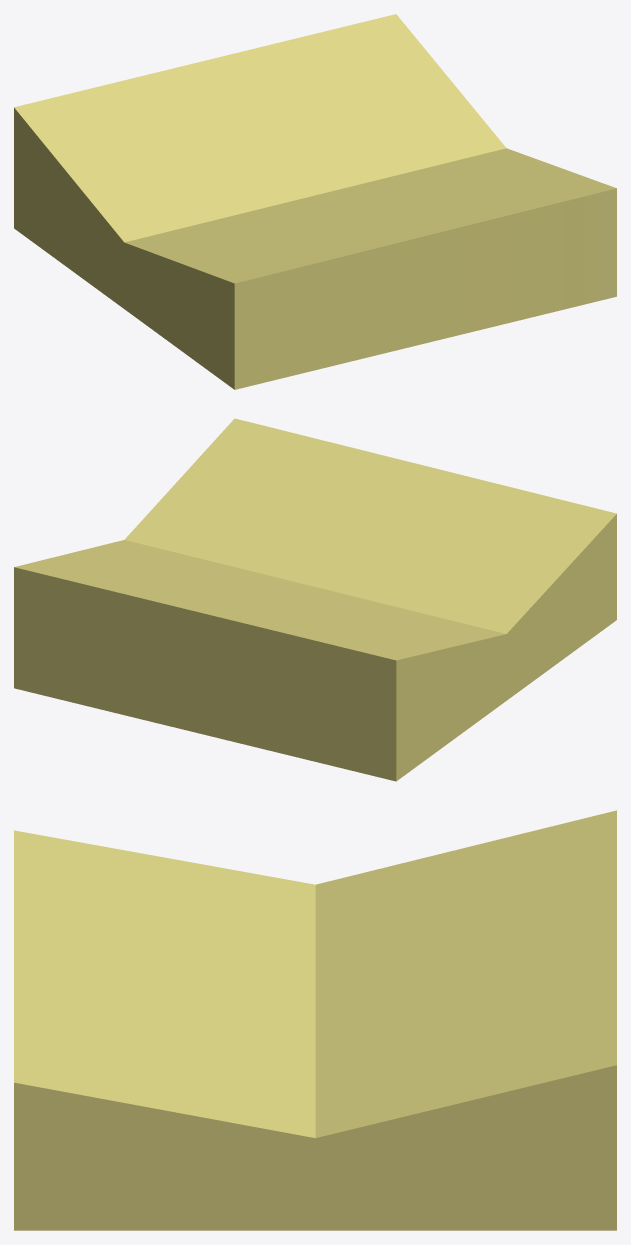
Rendered from Field_1.fbx.
3 renders of one model, top to bottom at view 1: azimuth 30°, elevation 25°; view 2: azimuth 150°, elevation 25°; view 3: azimuth 270°, elevation 25°, orthographic. The views are drawn at different scales.
Visible parts, largest first — view 1: Field_1; view 2: Field_1; view 3: Field_1.
Part boxes in pixels (bbox=[...]): Field_1: bbox=[14, 14, 616, 389]; Field_1: bbox=[14, 418, 616, 781]; Field_1: bbox=[14, 810, 616, 1230].
Size of the model in its own units: 140 by 42.39 by 140.
Materials: 1 (1 with a texture image).
